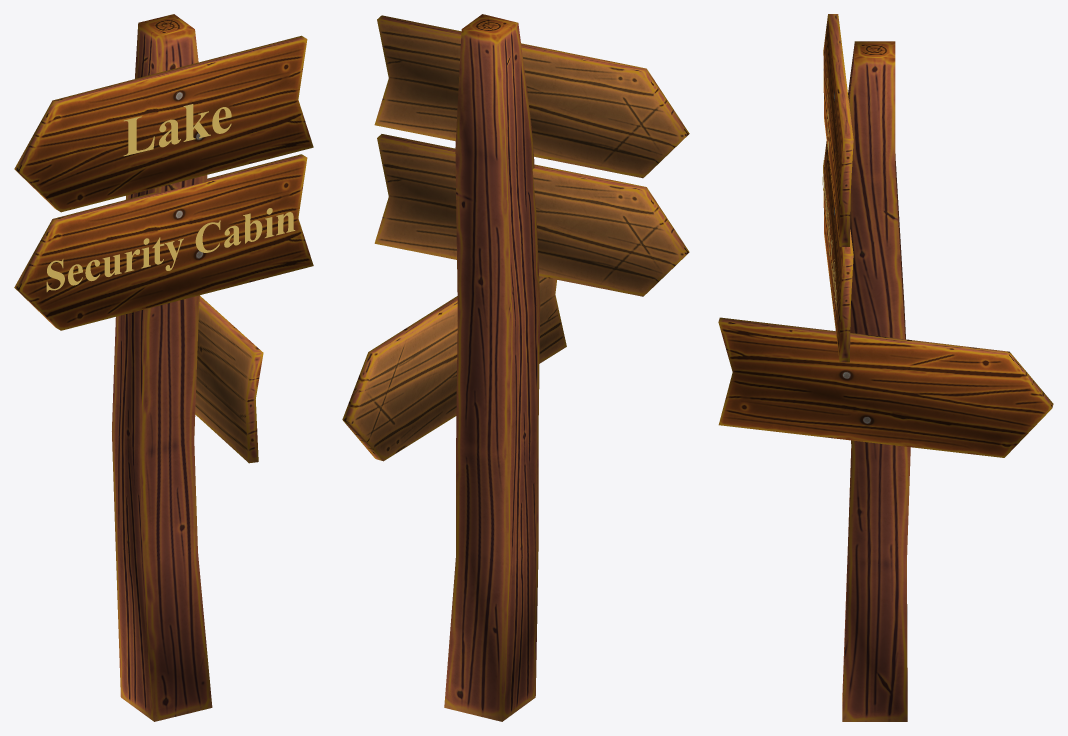
Rendered from DirectionSign.fbx.
The picture shows the model from 3 angles, left to right: view 1: azimuth 30°, elevation 25°; view 2: azimuth 150°, elevation 25°; view 3: azimuth 270°, elevation 25°; orthographic projection. The views are drawn at different scales.
Visible parts, largest first — view 1: wooden stick.003, wood sign 2.002, wood sign 2.004, wood sign 2.003, Texto.001, Texto; view 2: wooden stick.003, wood sign 2.002, wood sign 2.004, wood sign 2.003; view 3: wood sign 2.003, wooden stick.003, wood sign 2.002, wood sign 2.004.
Boxes of the visible parts, box(x1,y1,x2,y2) form: wooden stick.003: box(112, 14, 212, 721); wood sign 2.002: box(14, 35, 313, 212); wood sign 2.004: box(14, 154, 313, 330); wood sign 2.003: box(195, 296, 263, 463); Texto.001: box(46, 208, 295, 291); Texto: box(123, 104, 231, 156); wooden stick.003: box(444, 14, 540, 721); wood sign 2.002: box(374, 15, 689, 178); wood sign 2.004: box(374, 134, 689, 296); wood sign 2.003: box(342, 276, 566, 461); wood sign 2.003: box(718, 317, 1053, 457); wooden stick.003: box(842, 41, 910, 721); wood sign 2.002: box(823, 14, 853, 246); wood sign 2.004: box(823, 141, 853, 362).
Bounding box in the file's own units: 649 × 1387 × 640.
4 materials, 2 textured.
